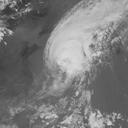cyclone: (46, 19, 97, 83)
